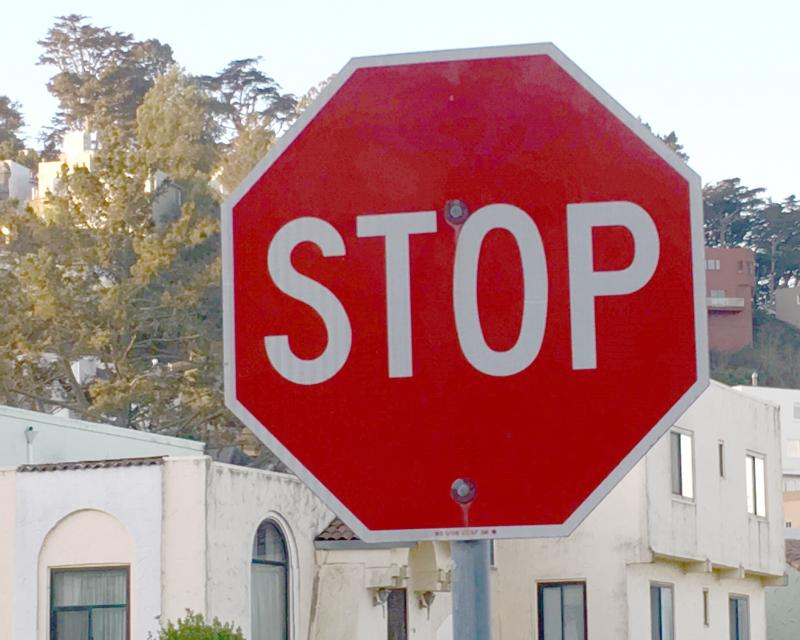stop: (219, 42, 713, 543)
